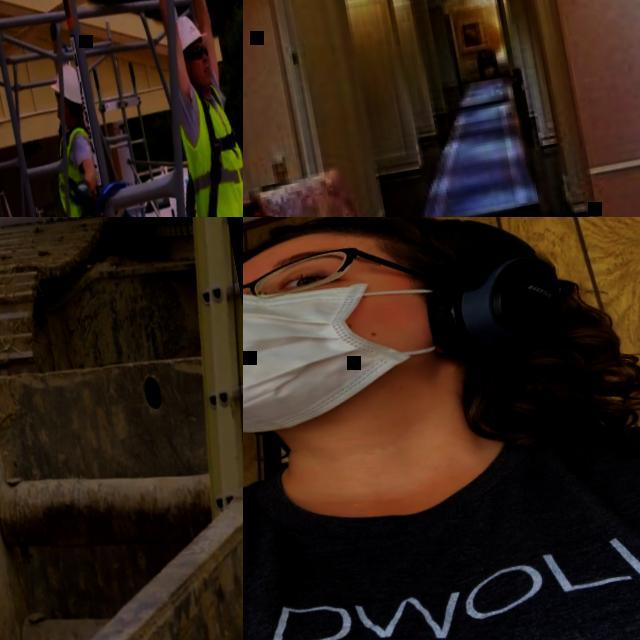helmet: (46, 62, 82, 108), (175, 11, 208, 52)
vest: (173, 83, 243, 217), (47, 122, 105, 217)
